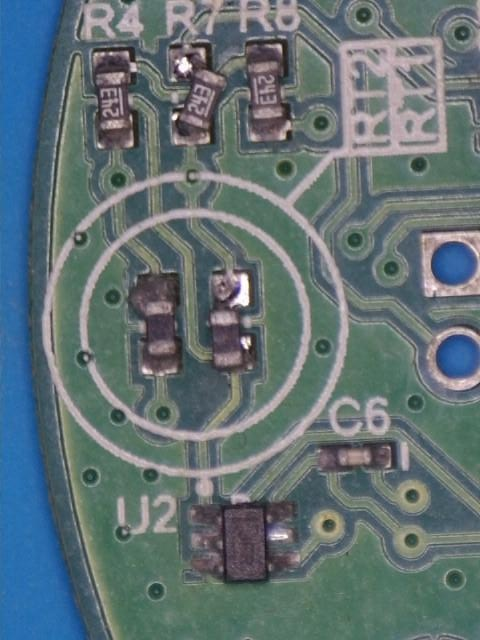pcb_defect: (167, 45, 228, 147), (208, 270, 256, 374)
